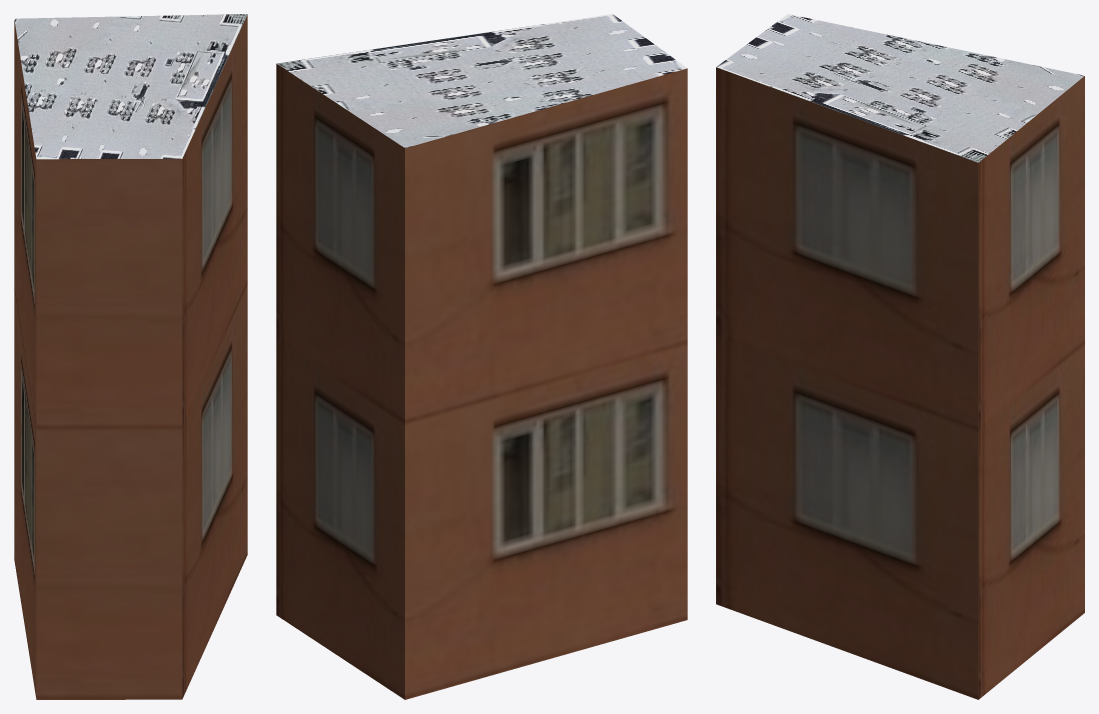
File: ResTex__615.fbx
3 renders of one model, left to right at view 1: azimuth 30°, elevation 25°; view 2: azimuth 150°, elevation 25°; view 3: azimuth 270°, elevation 25°, orthographic. The views are drawn at different scales.
Parts seen in each view (by area): view 1: CityEngineMaterial_20_m, CityEngineMaterial_4_m; view 2: CityEngineMaterial_20_m, CityEngineMaterial_4_m; view 3: CityEngineMaterial_20_m, CityEngineMaterial_4_m.
Part boxes in pixels (x1,y1,x2,y2): CityEngineMaterial_20_m: (14, 14, 247, 699); CityEngineMaterial_4_m: (14, 14, 247, 159); CityEngineMaterial_20_m: (276, 64, 687, 699); CityEngineMaterial_4_m: (276, 14, 686, 148); CityEngineMaterial_20_m: (716, 67, 1084, 699); CityEngineMaterial_4_m: (716, 14, 1084, 162).
Bounding box in the file's own units: 3.57 × 6 × 3.74.
Materials: 2 (2 with a texture image).
